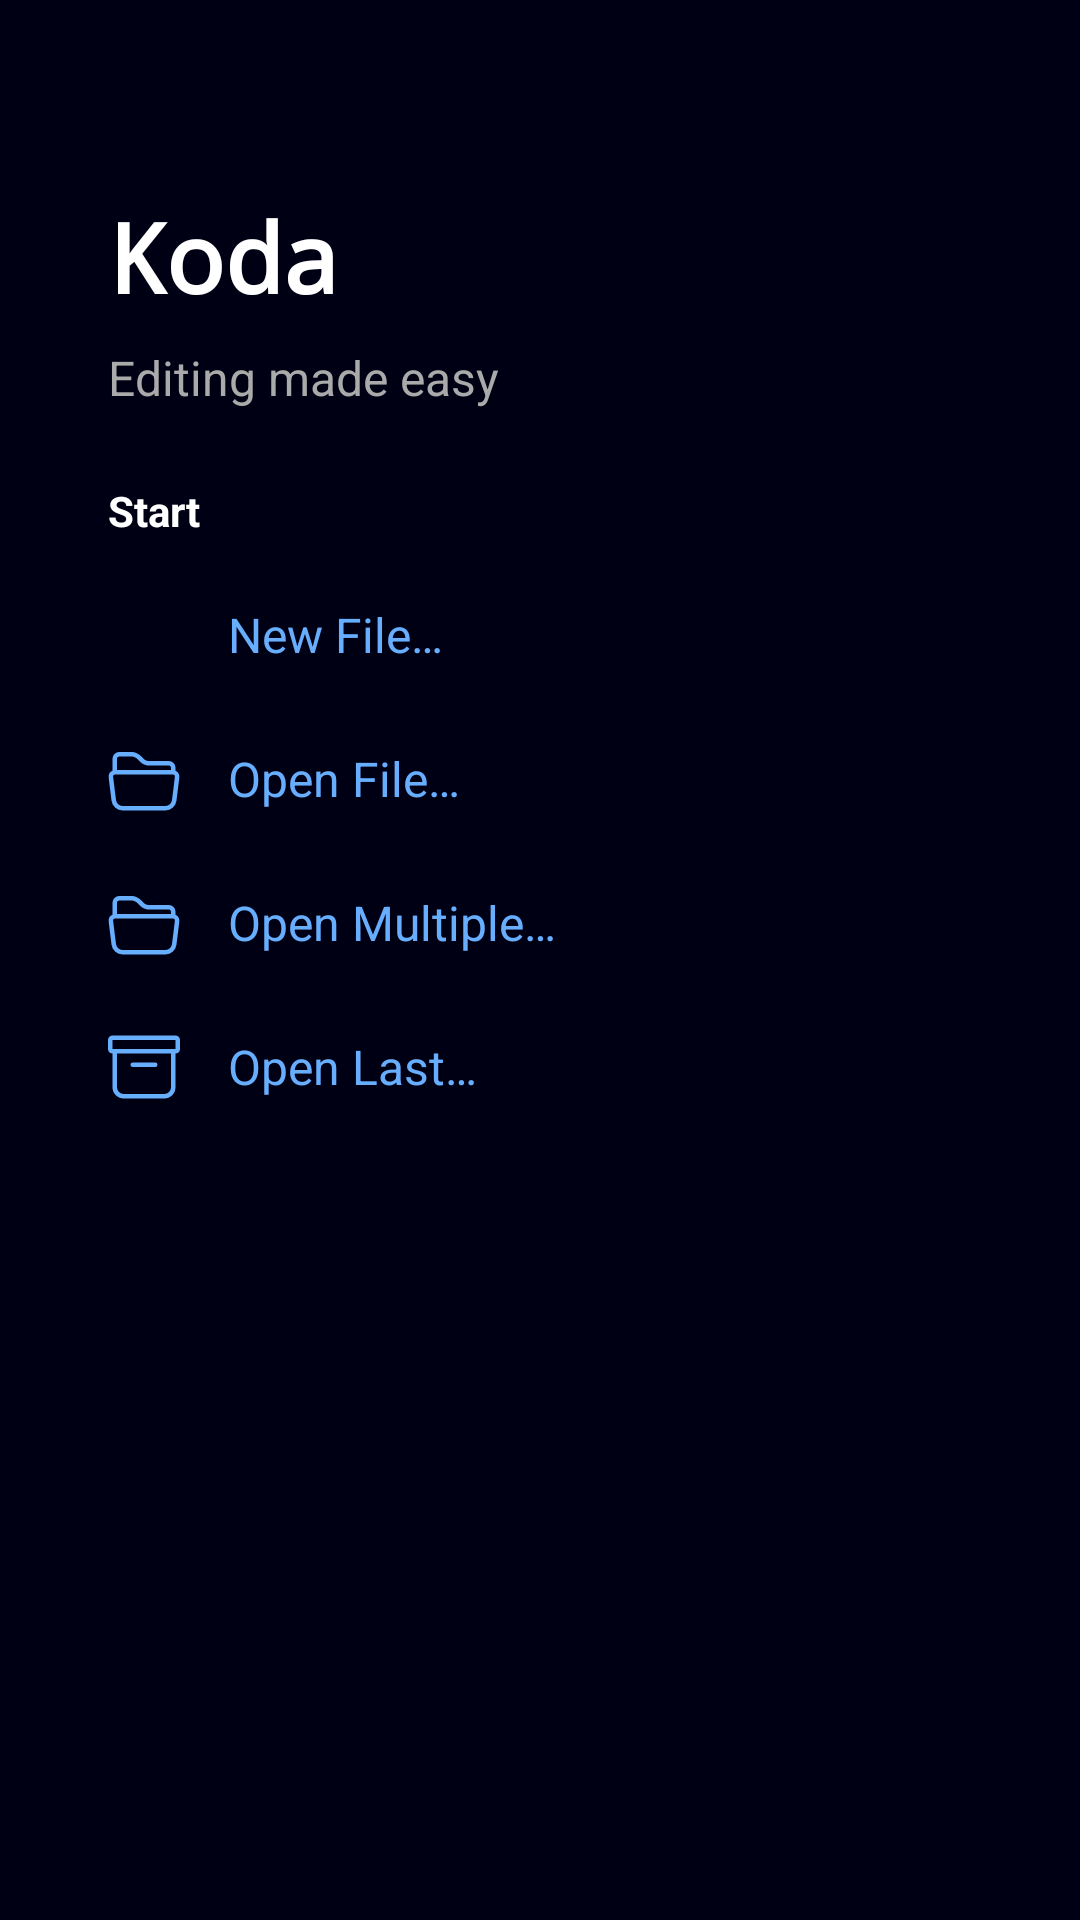

Icons on this 1080*1920 Android screen, each with its box as {"x1": x1, "y1": y1, "x2": x2, "y2": y2}:
archive: {"x1": 108, "y1": 1035, "x2": 180, "y2": 1099}
folder: {"x1": 108, "y1": 752, "x2": 180, "y2": 811}, {"x1": 108, "y1": 896, "x2": 180, "y2": 955}
